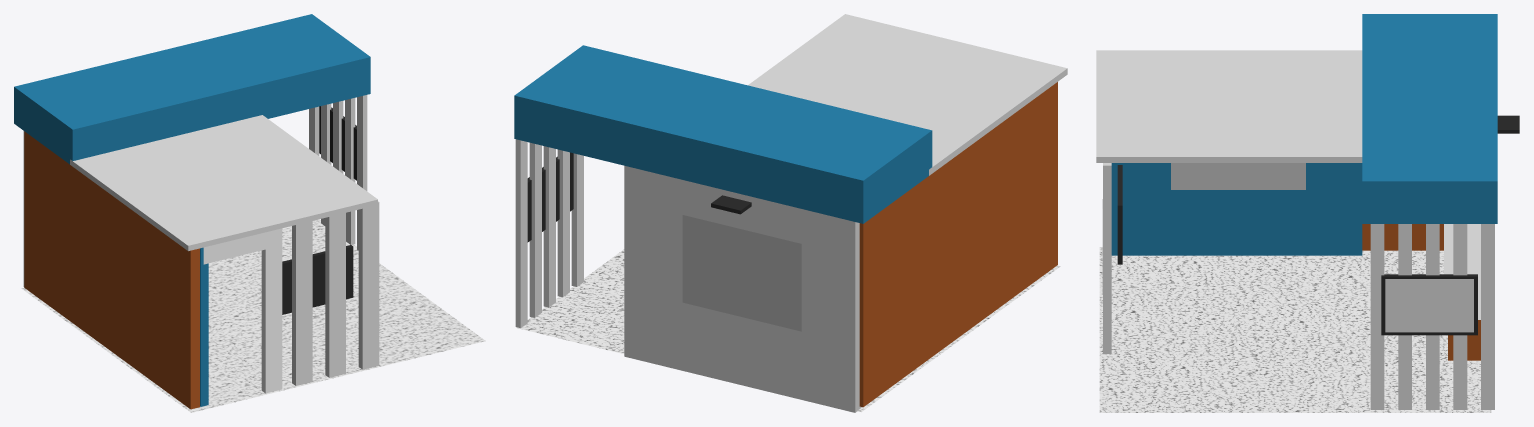
Rendered from Booth2.fbx.
The picture shows the model from 3 angles, left to right: view 1: azimuth 30°, elevation 25°; view 2: azimuth 150°, elevation 25°; view 3: azimuth 270°, elevation 25°; orthographic projection. The views are drawn at different scales.
Parts seen in each view (by area): view 1: Cube.012, Cube.005, Cube.025, Plane.004, Cube.019, Cube.020, Cube.013, Cube.021, Cube.011, Cube.014; view 2: Cube.012, Cube.005, Cube.006, Cube.025, LogoCubeStudioFinalOriginal.001, Cube.013, Plane.004, Cube.014, Cube.007; view 3: Plane.004, Cube.025, Cube.012, Cube.011, Cube.013, Cube.014, LogoCubeStudioFinalOriginal.006, Cube.022, Cube.019, Cube.005, Cube.021, Cube.007.
Part boxes in pixels (box(x1,y1,x2,y2)): Cube.012: box(14, 14, 370, 164); Cube.005: box(24, 131, 199, 409); Cube.025: box(70, 115, 377, 251); Plane.004: box(21, 219, 485, 412); Cube.019: box(292, 201, 379, 385); Cube.020: box(203, 228, 282, 393); Cube.013: box(309, 95, 367, 250); Cube.021: box(282, 245, 353, 314); Cube.011: box(200, 247, 208, 406); Cube.014: box(319, 106, 356, 180); Cube.012: box(514, 45, 932, 223); Cube.005: box(859, 82, 1057, 407); Cube.006: box(624, 165, 861, 412); Cube.025: box(748, 14, 1067, 175); LogoCubeStudioFinalOriginal.001: box(682, 215, 801, 331); Cube.013: box(515, 139, 583, 328); Plane.004: box(517, 249, 1060, 411); Cube.014: box(527, 152, 573, 242); Cube.007: box(711, 195, 751, 214); Plane.004: box(1099, 247, 1491, 412); Cube.025: box(1096, 50, 1362, 162); Cube.012: box(1362, 14, 1497, 223); Cube.011: box(1111, 163, 1362, 255); Cube.013: box(1370, 224, 1494, 409); Cube.014: box(1381, 274, 1477, 335); LogoCubeStudioFinalOriginal.006: box(1171, 163, 1305, 189); Cube.022: box(1444, 224, 1480, 360); Cube.019: box(1103, 163, 1111, 353); Cube.005: box(1362, 224, 1443, 250); Cube.021: box(1117, 165, 1122, 264); Cube.007: box(1497, 115, 1519, 133).
Bounding box in the file's own units: 612 × 392 × 648.
